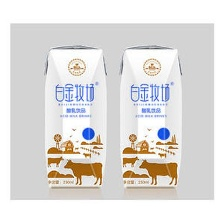carton: (40, 40, 109, 193), (117, 41, 185, 190)
